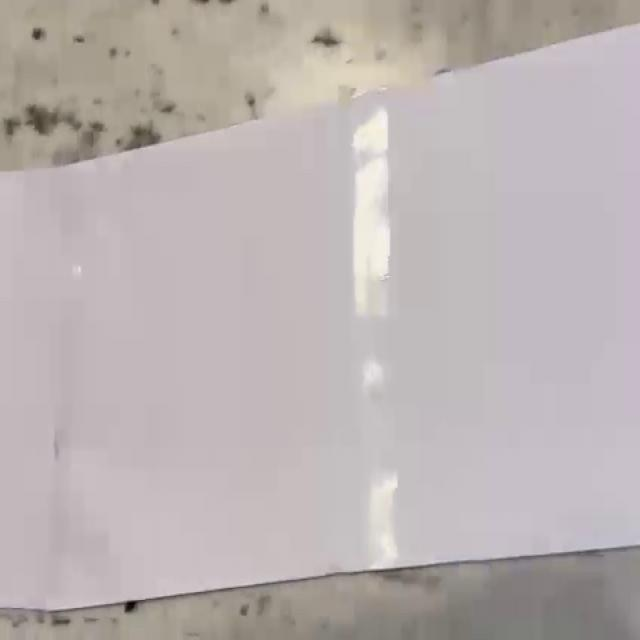road: (0, 25, 640, 611)
